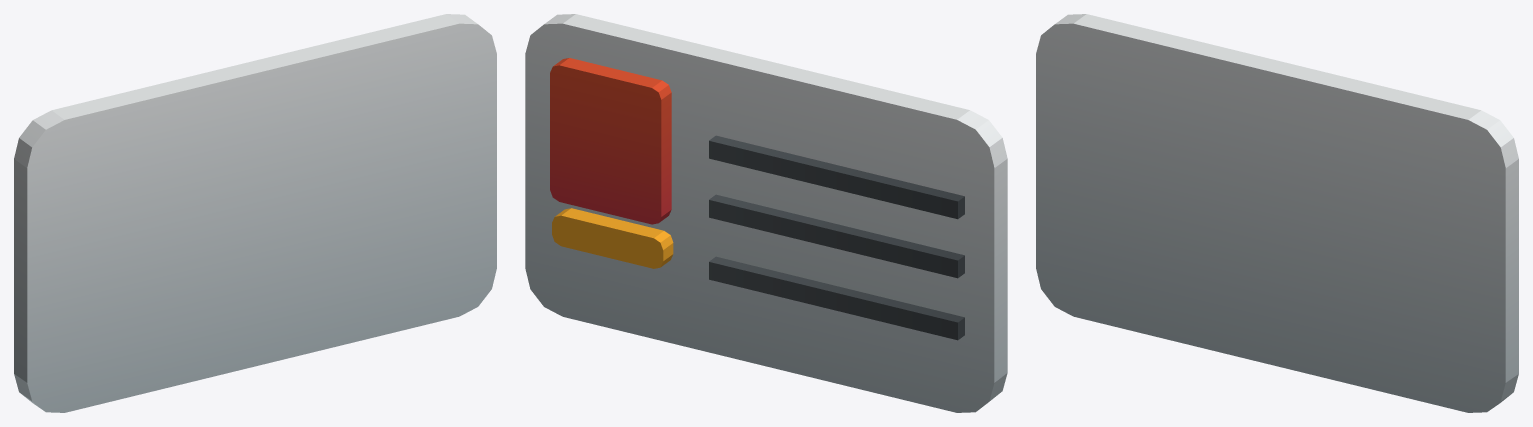
Rendered from building_pass.glb.
The picture shows the model from 3 angles, left to right: view 1: azimuth 30°, elevation 25°; view 2: azimuth 150°, elevation 25°; view 3: azimuth 330°, elevation 25°; orthographic projection.
Parts seen in each view (by area): view 1: building_pass; view 2: building_pass; view 3: building_pass.
Part boxes in pixels (bbox=[...]): building_pass: bbox=[14, 14, 496, 412]; building_pass: bbox=[525, 14, 1007, 412]; building_pass: bbox=[1036, 14, 1518, 412].
Size of the model in its own units: 1.96 by 1.17 by 0.1698.
Materials: 1 (1 with a texture image).
